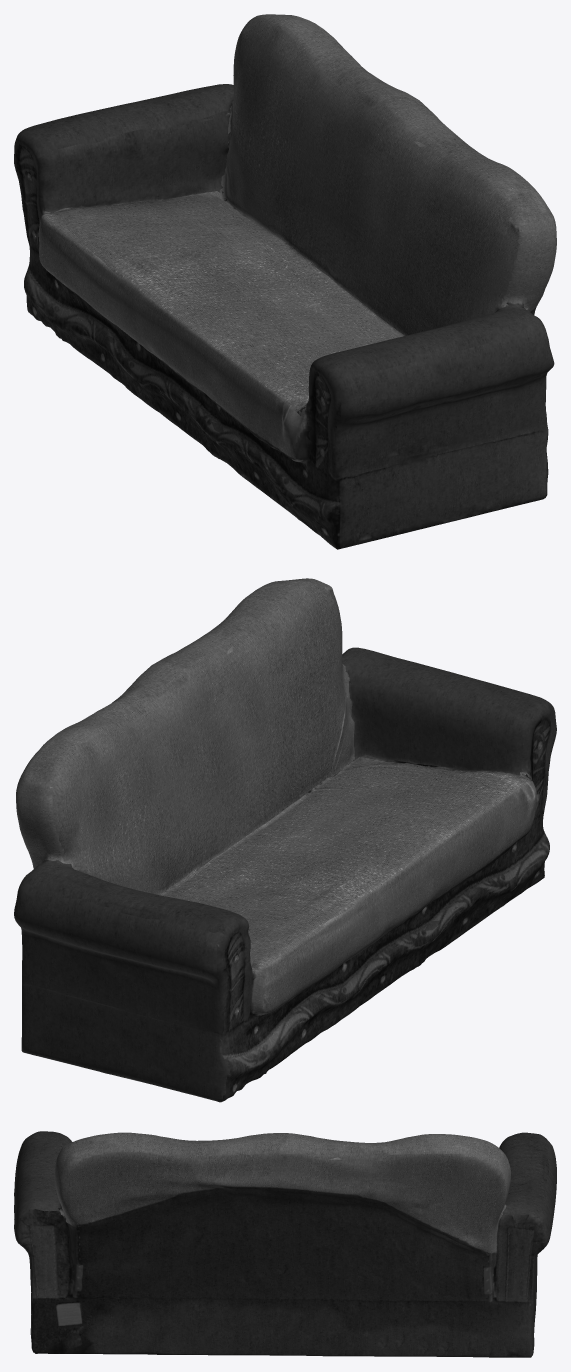
File: Sofa.glb
3 views of the same model, one above another, from view 1: azimuth 30°, elevation 25°; view 2: azimuth 150°, elevation 25°; view 3: azimuth 270°, elevation 25° (orthographic). The views are drawn at different scales.
Visible parts, largest first — view 1: edited_geometry_001; view 2: edited_geometry_001; view 3: edited_geometry_001.
Part boxes in pixels (x1,y1,x2,y2): edited_geometry_001: [14, 14, 556, 549]; edited_geometry_001: [14, 578, 556, 1102]; edited_geometry_001: [14, 1131, 556, 1357].
Bounding box in the file's own units: 0.938 × 0.9448 × 2.08.
1 material, 1 textured.
